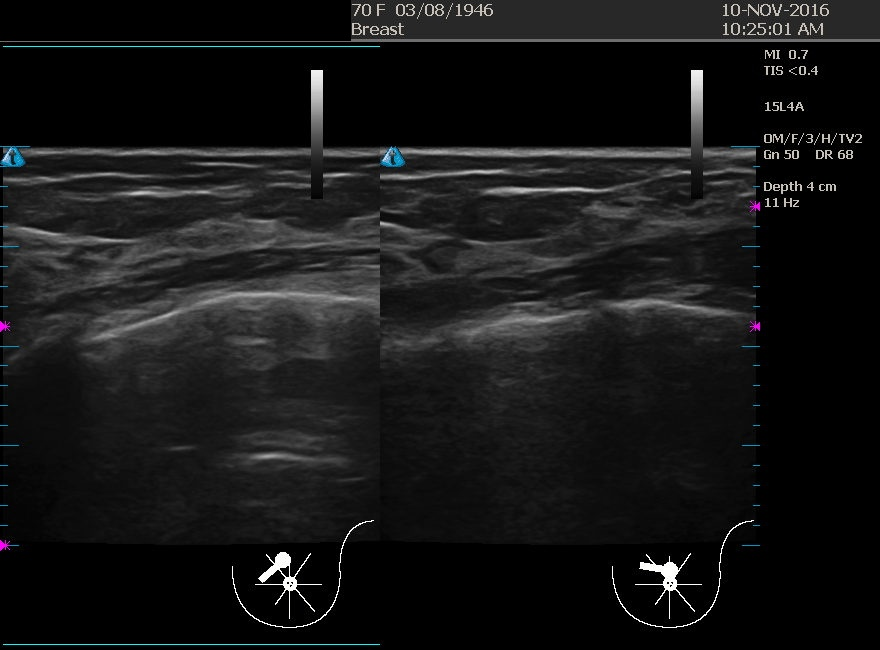Benign: (23, 174, 223, 374), (439, 165, 639, 365)
